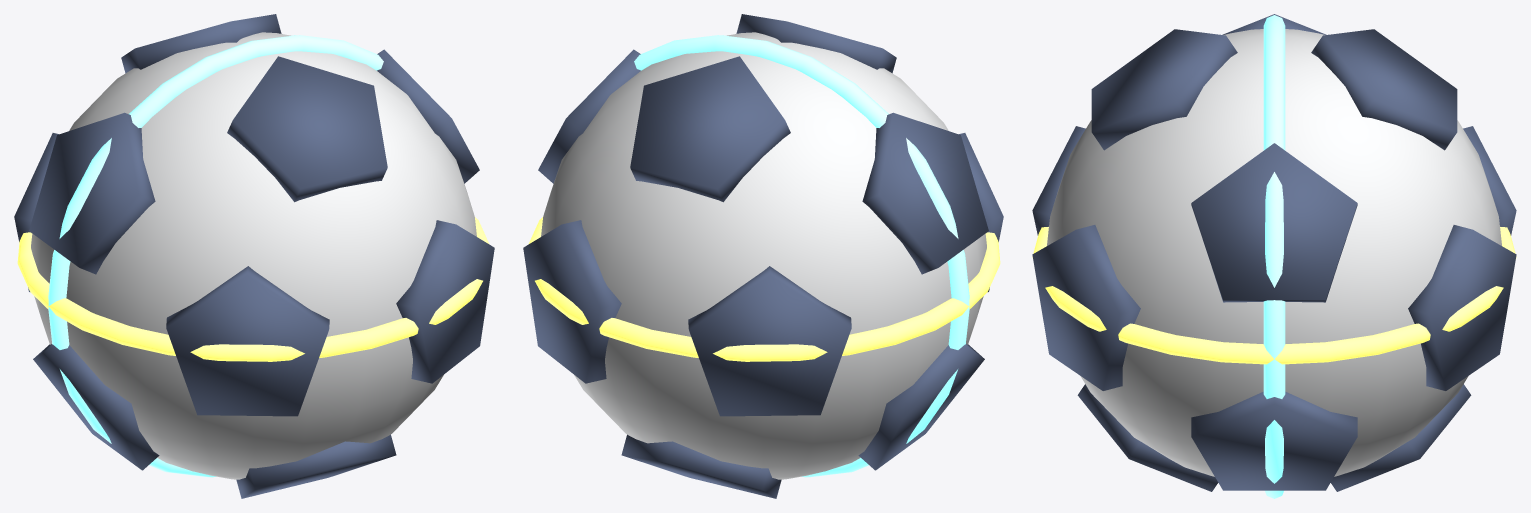
The model's file is brawl_ball.glb.
3 renders of one model, left to right at view 1: azimuth 30°, elevation 25°; view 2: azimuth 150°, elevation 25°; view 3: azimuth 270°, elevation 25°, orthographic.
Visible parts, largest first — view 1: BrawlBall; view 2: BrawlBall; view 3: BrawlBall.
Part boxes in pixels (left/top/right/bottom): BrawlBall: left=14, top=14, right=494, bottom=498; BrawlBall: left=523, top=14, right=1003, bottom=498; BrawlBall: left=1032, top=14, right=1516, bottom=498.
Bounding box in the file's own units: 0.8117 × 0.8079 × 0.8043.
